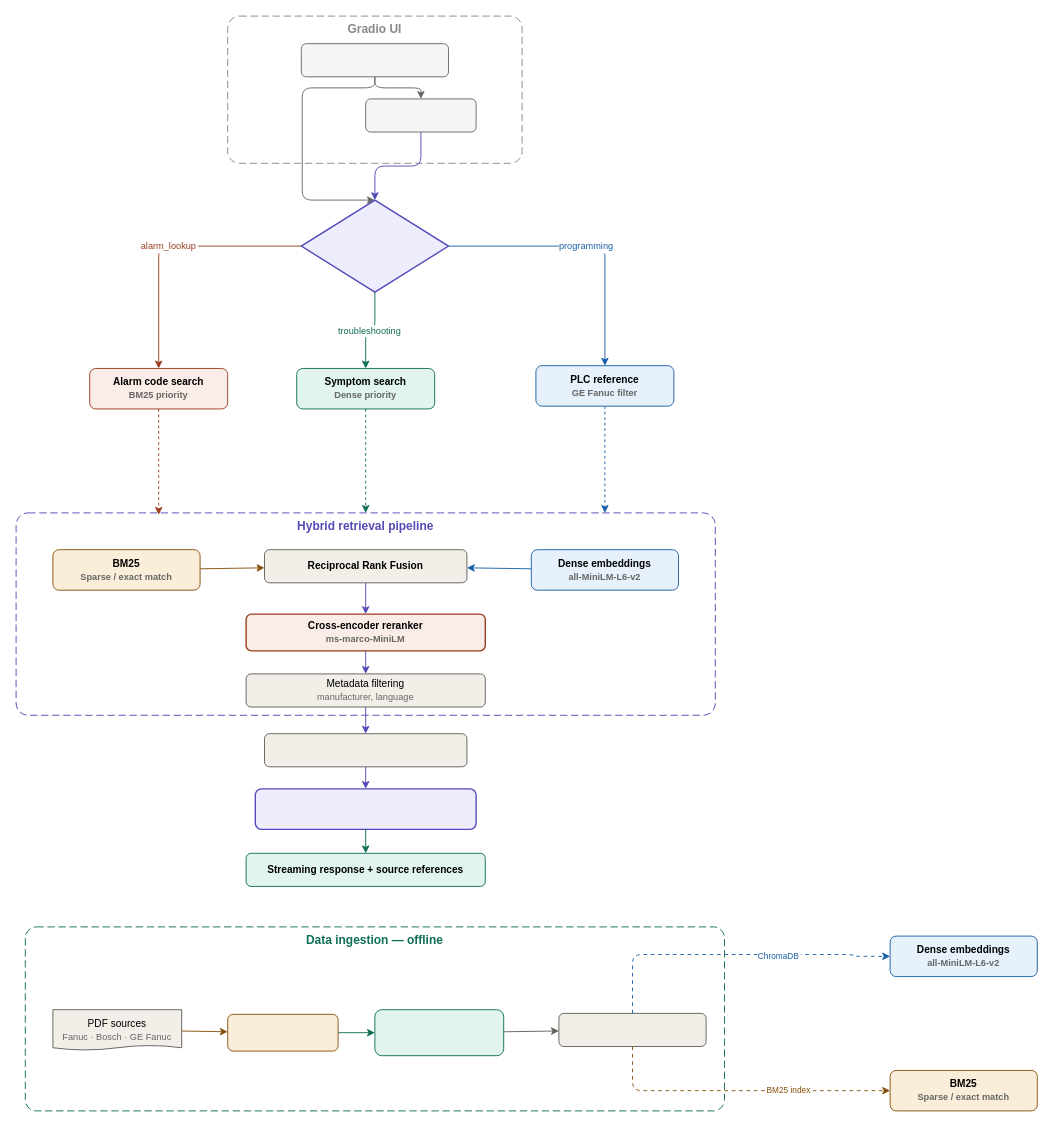
The diagram is 1053 pixels wide and 1127 high, and some of its shapes have lost their labels. The centre of each missing label's shape, as x and y in pixels:
"Chunking per-alarm / sliding window" goes at point (632, 1029).
"Context assembly Top-k chunks + sources" goes at point (365, 750).
"LLM generation OpenAI / Gemini / Claude" goes at point (365, 809).
"Manufacturer filter optional" goes at point (420, 115).
"PDF parsing pdfplumber + raster" goes at point (282, 1032).
"Query router LLM classifies intent" goes at point (374, 245).
"Structured JSON alarm_code, manufacturer, category, language" goes at point (439, 1032).
"User query" goes at point (374, 60).
